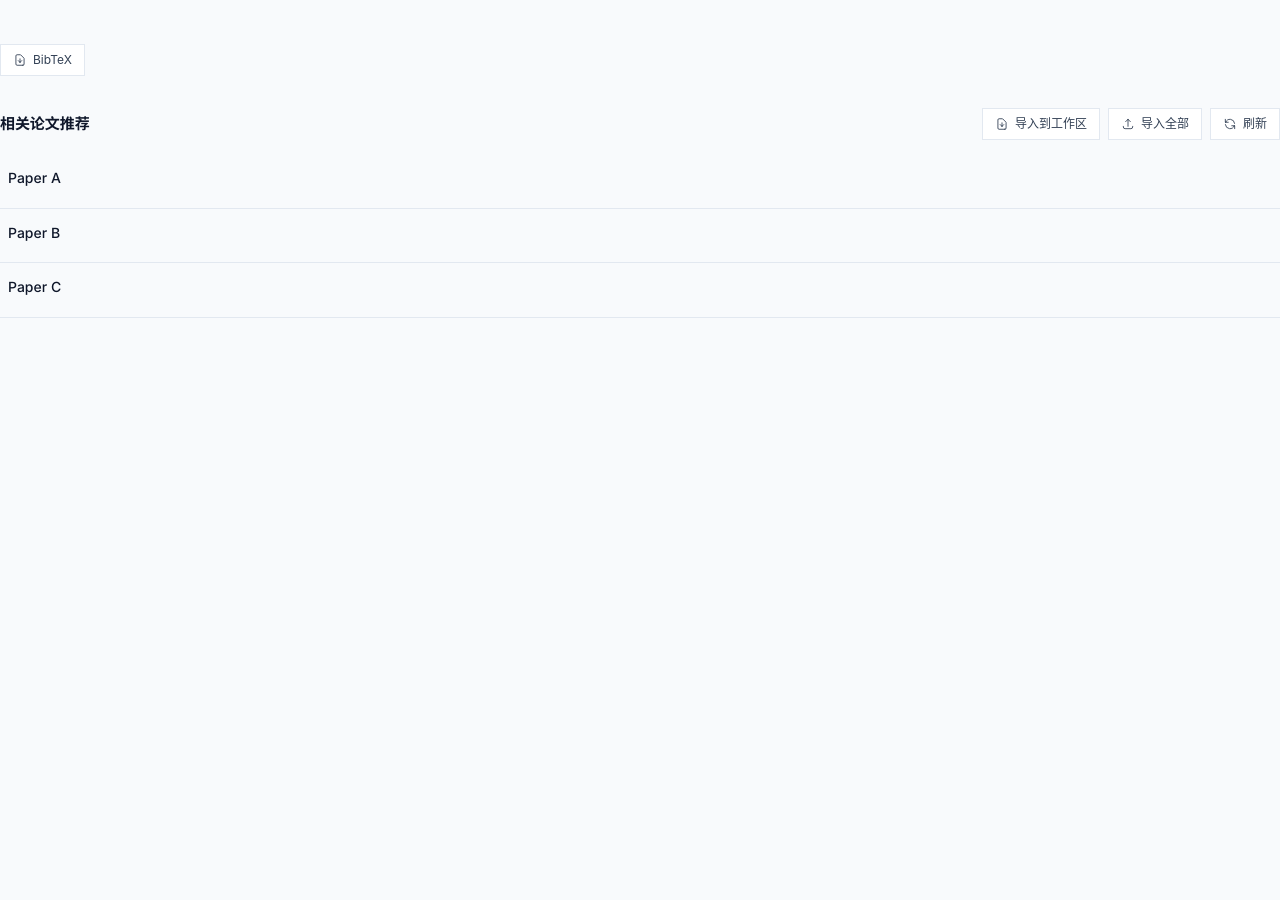
Test: 审计回归 › 乱序勾选只把导入结果显示在对应论文，登记状态单独汇总
Click the button "导入到工作区" at (1041, 124), box [982,108,1100,140]
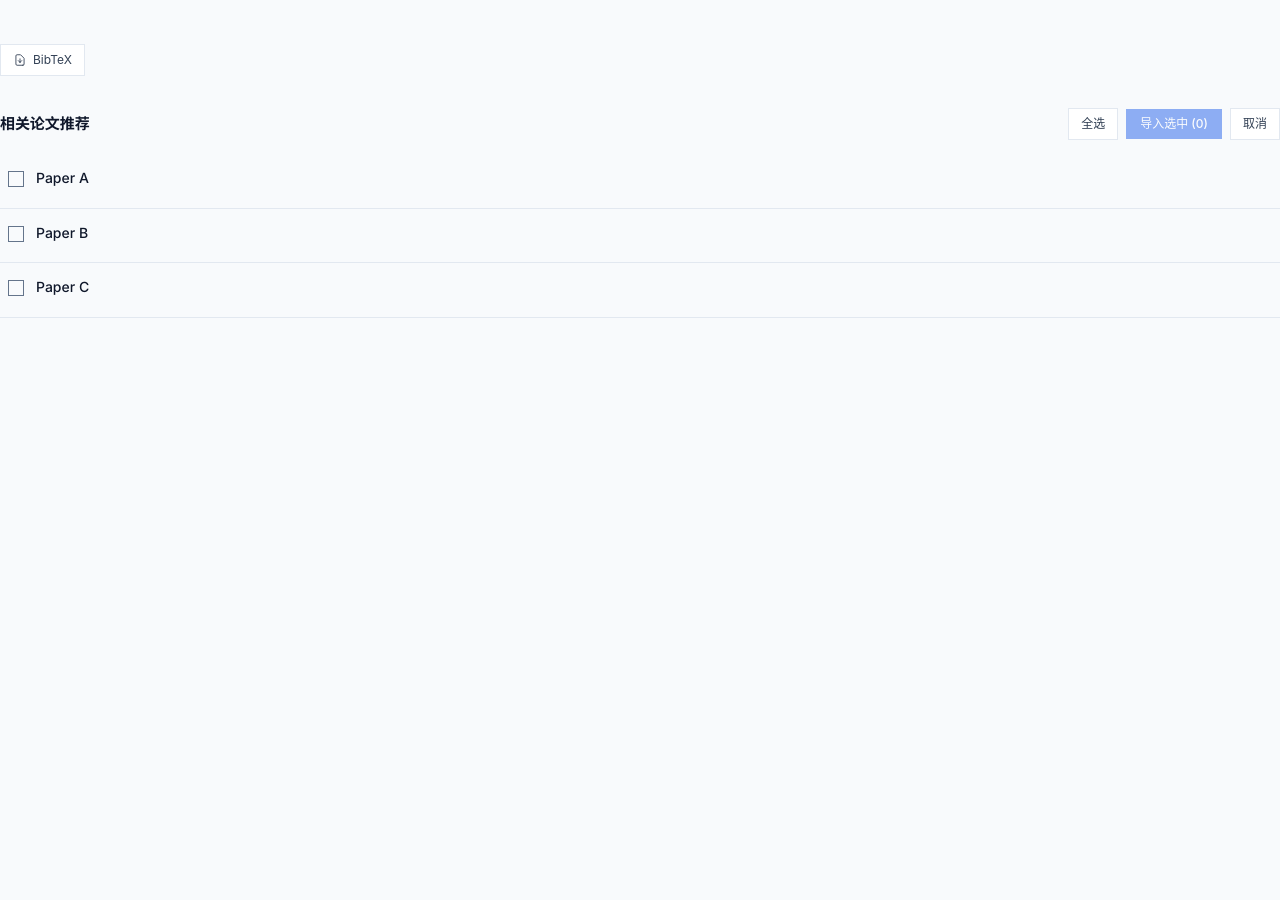
Result: the button "导入选中 (0)" is shown at [1126,109,1222,139]
Click the button without text next to "Paper C" at (16, 288), box [8,280,24,296]
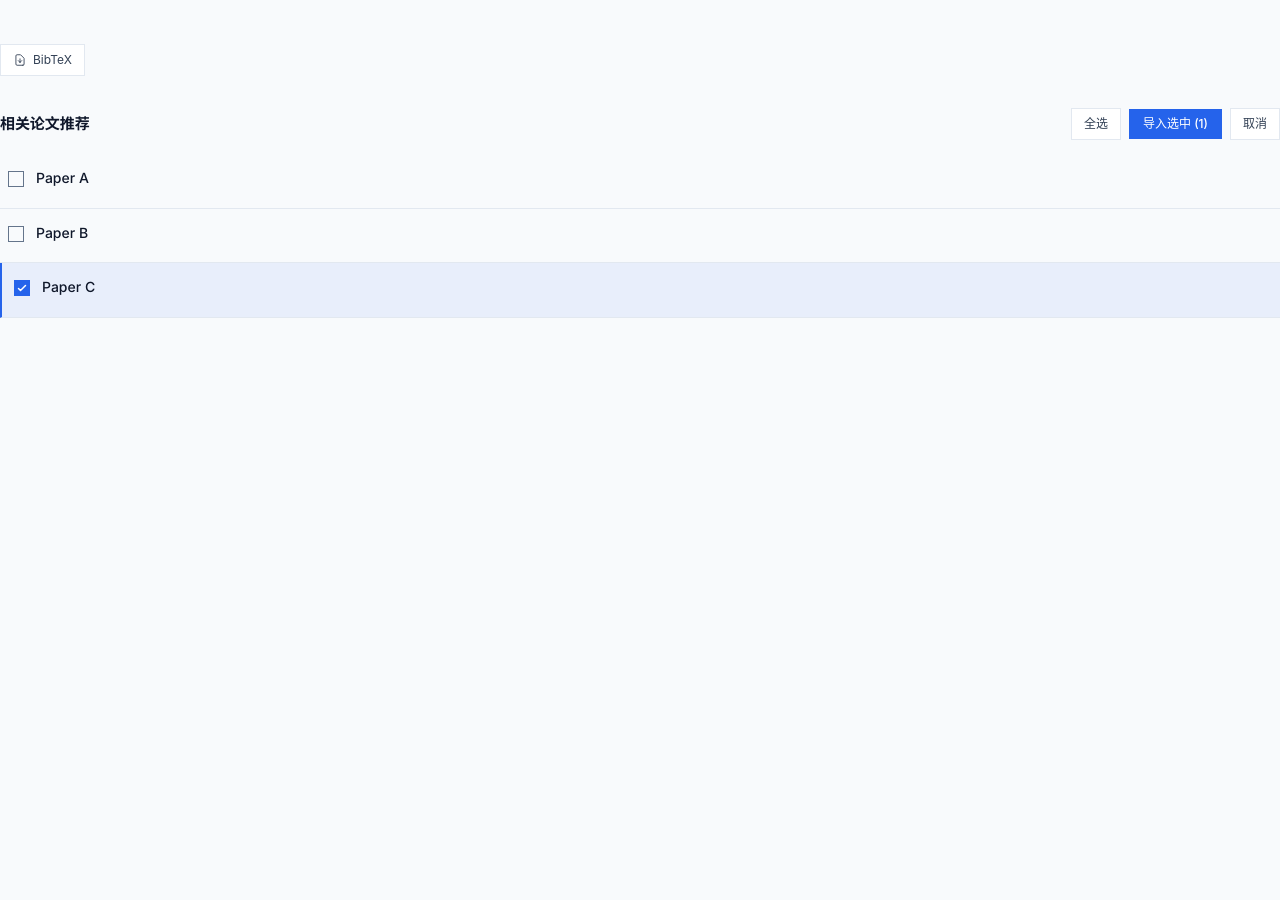
Click the button without text next to "Paper A" at (16, 179), box [8,171,24,187]
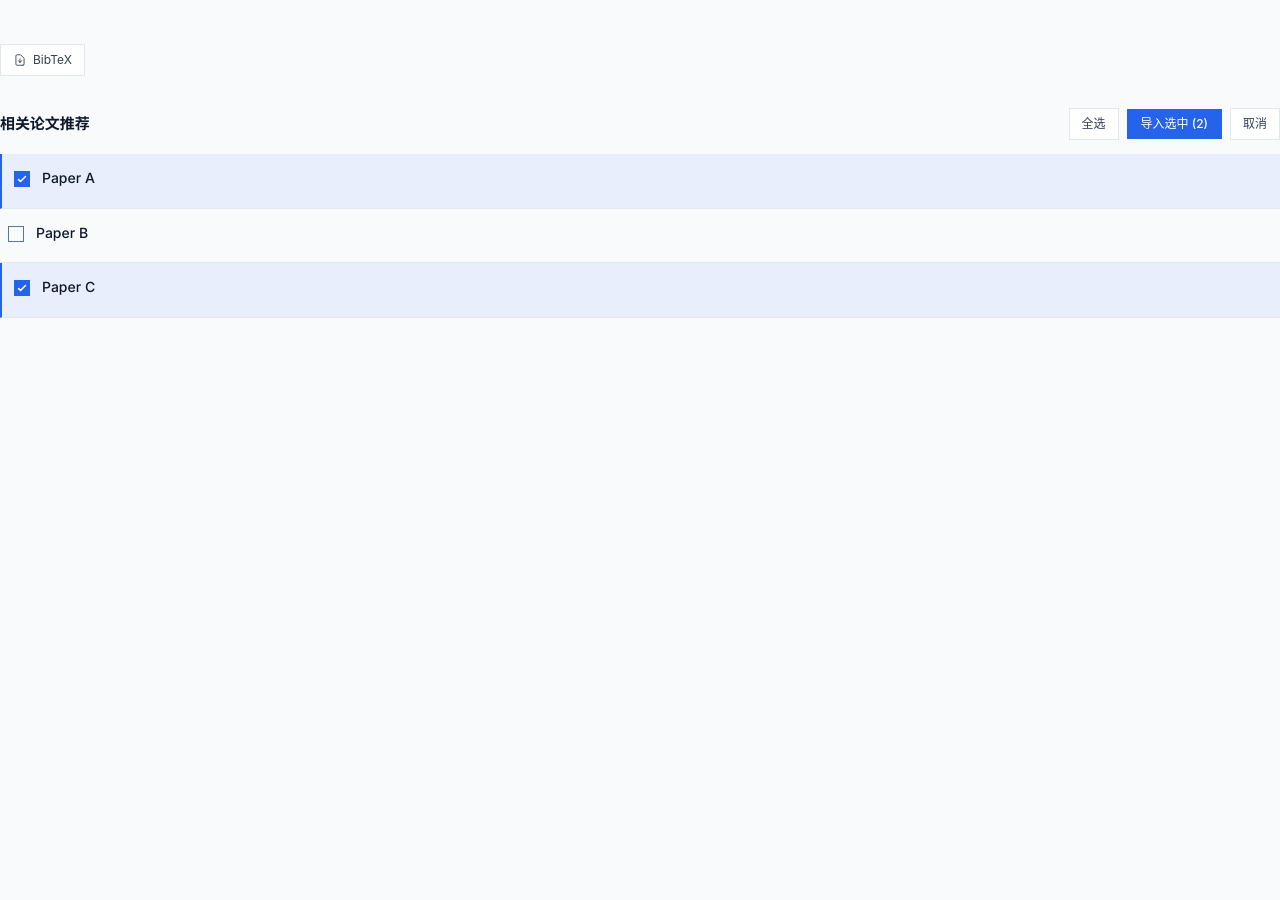
Click the button "导入选中 (2)" at (1174, 124), box [1126,109,1222,139]
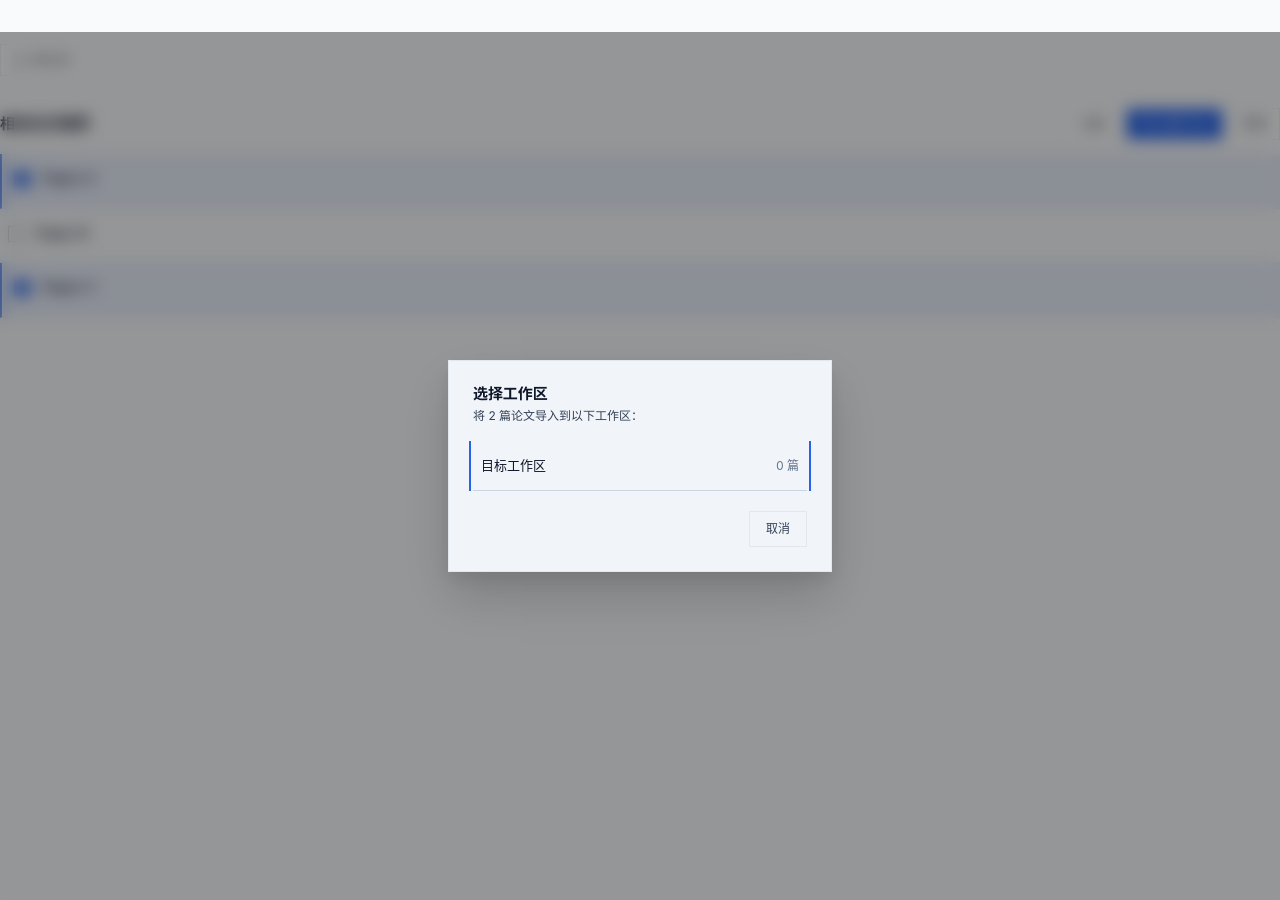
Click the text "目标工作区" at (514, 466), box [481,456,546,475]
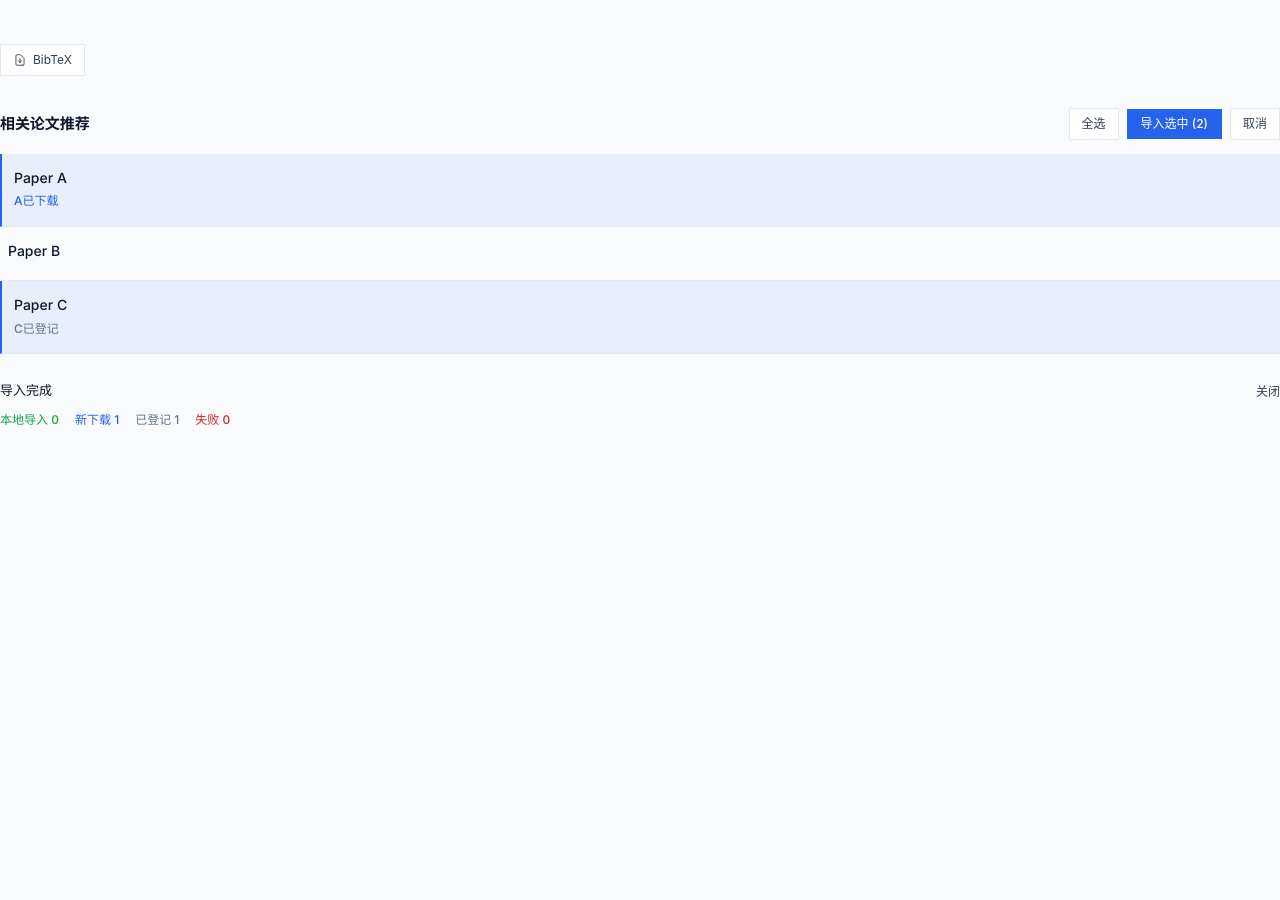
Result: the text "C已登记" is shown at [14,320,59,338]
Result: the text "A已下载" is shown at [14,192,58,210]
Result: the text "已登记 1" is shown at [135,411,179,429]
